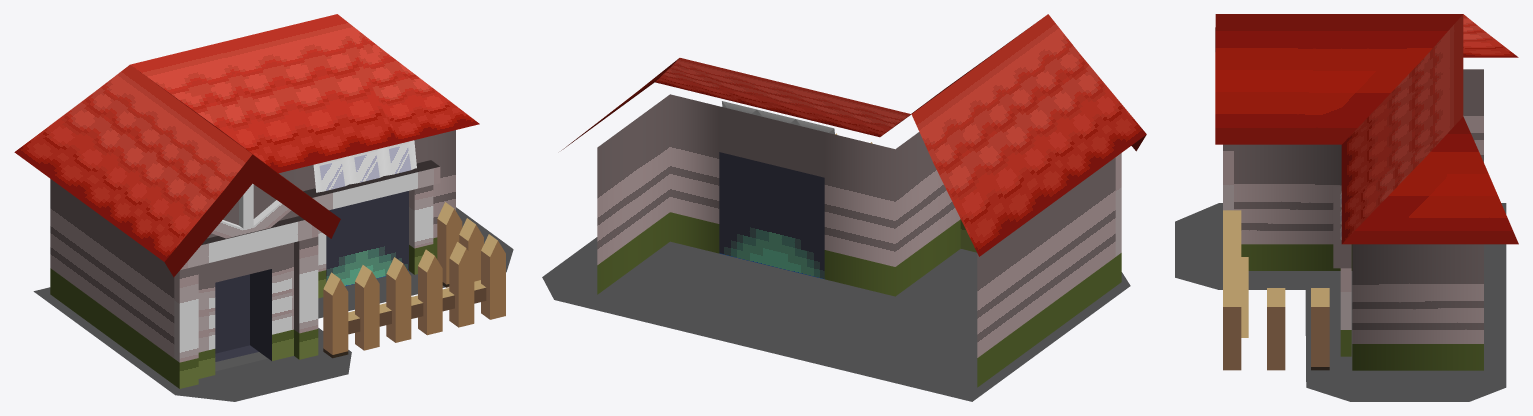
Rendered from Pokemon Day Care.obj.
The picture shows the model from 3 angles, left to right: view 1: azimuth 30°, elevation 25°; view 2: azimuth 150°, elevation 25°; view 3: azimuth 270°, elevation 25°; orthographic projection. The views are drawn at different scales.
Parts seen in each view (by area): view 1: polygon4, polygon3, polygon2, polygon1, polygon0; view 2: polygon4, polygon2, polygon3; view 3: polygon4, polygon2, polygon3.
Part boxes in pixels (left/top/right/bottom): polygon4: left=14, top=14, right=479, bottom=388; polygon3: left=323, top=191, right=505, bottom=357; polygon2: left=33, top=207, right=513, bottom=401; polygon1: left=215, top=269, right=271, bottom=371; polygon0: left=319, top=144, right=411, bottom=191; polygon4: left=561, top=14, right=1146, bottom=387; polygon2: left=542, top=237, right=1130, bottom=401; polygon3: left=719, top=133, right=872, bottom=279; polygon4: left=1215, top=14, right=1518, bottom=370; polygon2: left=1175, top=203, right=1506, bottom=401; polygon3: left=1223, top=210, right=1329, bottom=370.
Bounding box in the file's own units: 132 × 68.85 × 93.48.
5 materials, 5 textured.
